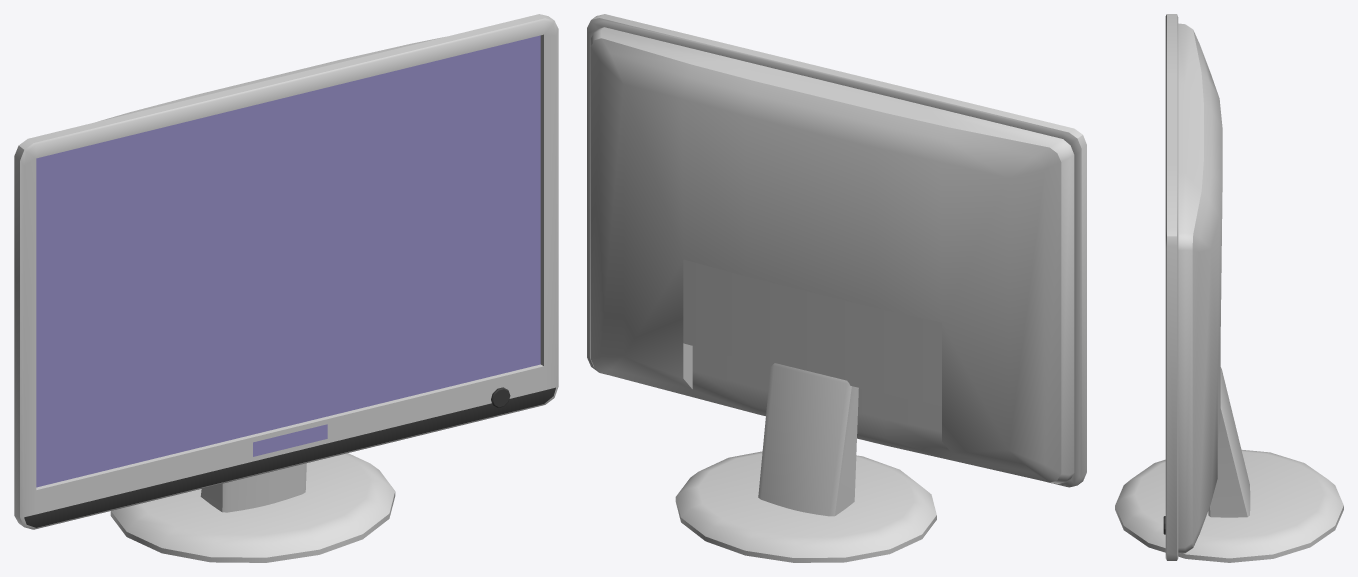
3 renders of one model, left to right at view 1: azimuth 30°, elevation 25°; view 2: azimuth 150°, elevation 25°; view 3: azimuth 270°, elevation 25°, orthographic. The views are drawn at different scales.
Parts seen in each view (by area): view 1: QX22C01; view 2: QX22C01; view 3: QX22C01.
Part boxes in pixels (box(x1,y1,x2,y2)): QX22C01: box(14, 14, 558, 562); QX22C01: box(587, 14, 1086, 562); QX22C01: box(1115, 14, 1343, 562).
Bounding box in the file's own units: 51.51 × 22.05 × 41.32.
